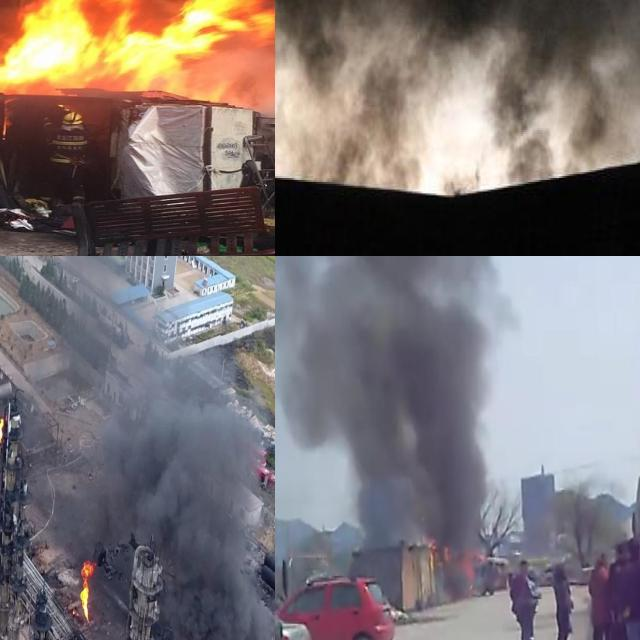fire: (0, 0, 275, 95), (433, 542, 482, 592), (77, 558, 93, 622), (0, 416, 4, 439)
smoke: (41, 256, 275, 640), (275, 256, 517, 548), (275, 0, 640, 184)
